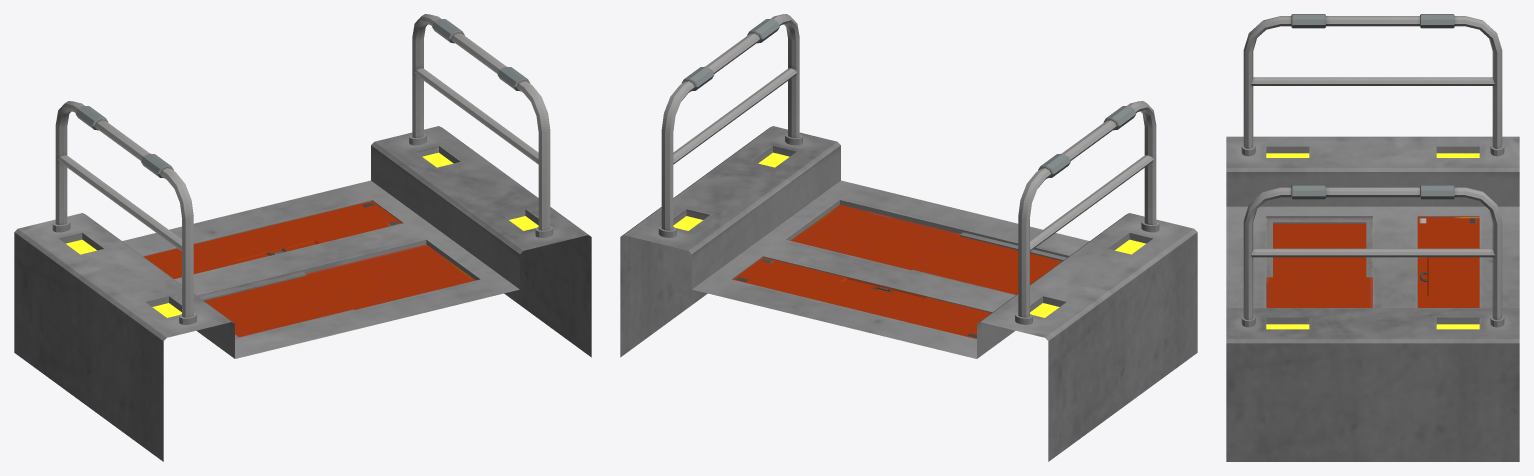
Rendered from Walk way_1.fbx.
The picture shows the model from 3 angles, left to right: view 1: azimuth 30°, elevation 25°; view 2: azimuth 150°, elevation 25°; view 3: azimuth 270°, elevation 25°; orthographic projection.
Visible parts, largest first — view 1: Walk way_1; view 2: Walk way_1; view 3: Walk way_1.
Part boxes in pixels (x1,y1,x2,y2): Walk way_1: [14, 14, 591, 461]; Walk way_1: [620, 14, 1197, 461]; Walk way_1: [1226, 14, 1519, 461].
Size of the model in its own units: 251 by 147 by 151.
